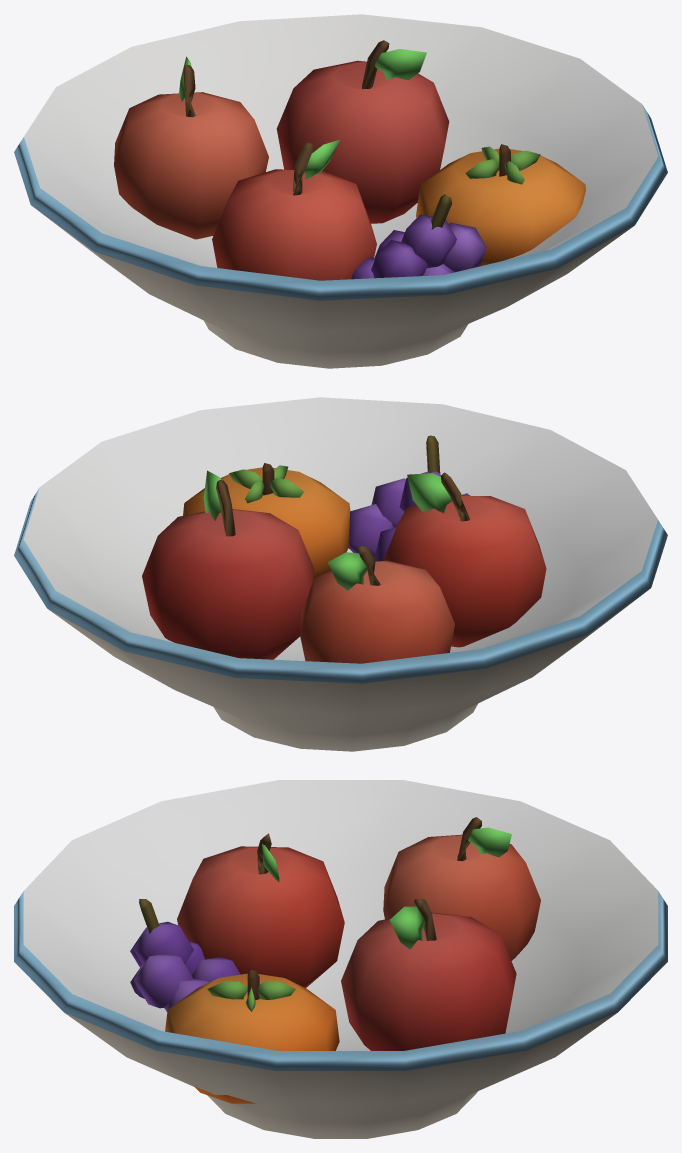
The model's file is furn-fruitBowl.glb.
3 renders of one model, top to bottom at view 1: azimuth 30°, elevation 25°; view 2: azimuth 150°, elevation 25°; view 3: azimuth 270°, elevation 25°, orthographic.
Parts seen in each view (by area): view 1: furn-fruitBowl; view 2: furn-fruitBowl; view 3: furn-fruitBowl.
Boxes of the visible parts, bbox=[...] form: furn-fruitBowl: bbox=[14, 14, 667, 368]; furn-fruitBowl: bbox=[14, 397, 667, 751]; furn-fruitBowl: bbox=[14, 780, 667, 1138].
Size of the model in its own units: 0.3295 by 0.1252 by 0.3295.
